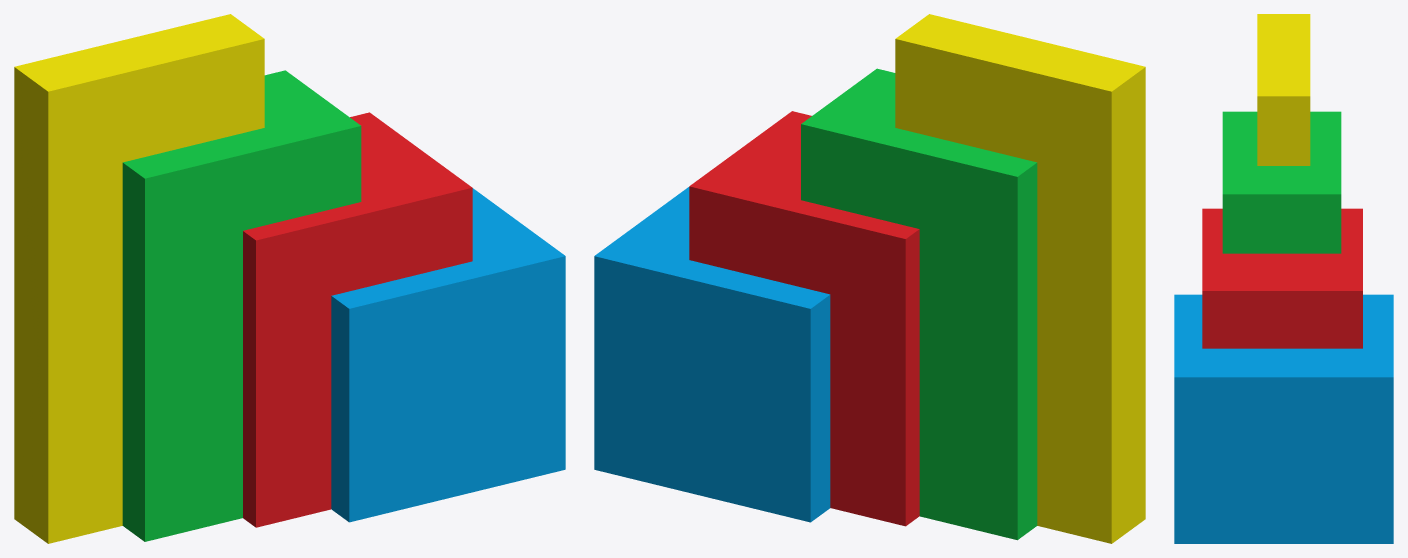
Rendered from 3d_icon.glb.
The picture shows the model from 3 angles, left to right: view 1: azimuth 30°, elevation 25°; view 2: azimuth 150°, elevation 25°; view 3: azimuth 270°, elevation 25°; orthographic projection. The views are drawn at different scales.
Parts seen in each view (by area): view 1: mesh_id27, mesh_id45, mesh_id64, mesh_id58; view 2: mesh_id27, mesh_id45, mesh_id64, mesh_id58; view 3: mesh_id64, mesh_id58, mesh_id45, mesh_id27.
Boxes of the visible parts, bbox=[...] form: mesh_id27: bbox=[14, 14, 264, 543]; mesh_id45: bbox=[122, 70, 361, 541]; mesh_id64: bbox=[331, 188, 565, 522]; mesh_id58: bbox=[243, 112, 472, 527]; mesh_id27: bbox=[895, 14, 1145, 543]; mesh_id45: bbox=[801, 68, 1037, 540]; mesh_id64: bbox=[594, 187, 830, 522]; mesh_id58: bbox=[689, 111, 919, 526]; mesh_id64: bbox=[1174, 294, 1393, 543]; mesh_id58: bbox=[1202, 208, 1362, 348]; mesh_id45: bbox=[1222, 111, 1341, 253]; mesh_id27: bbox=[1257, 14, 1310, 165].
Size of the model in its own units: 1.13 by 1.05 by 0.5918.
4 materials, 4 textured.
